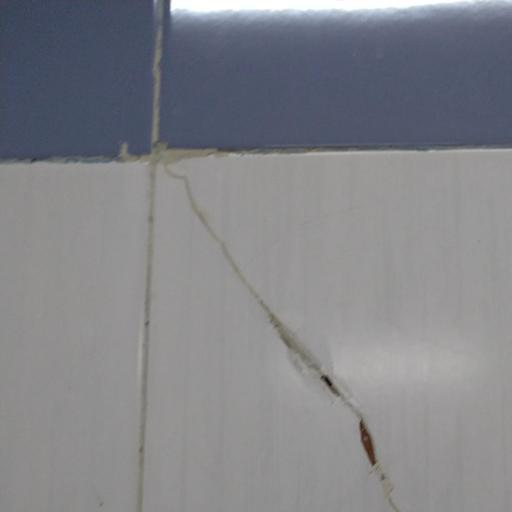minor_crack: (154, 140, 440, 512)
